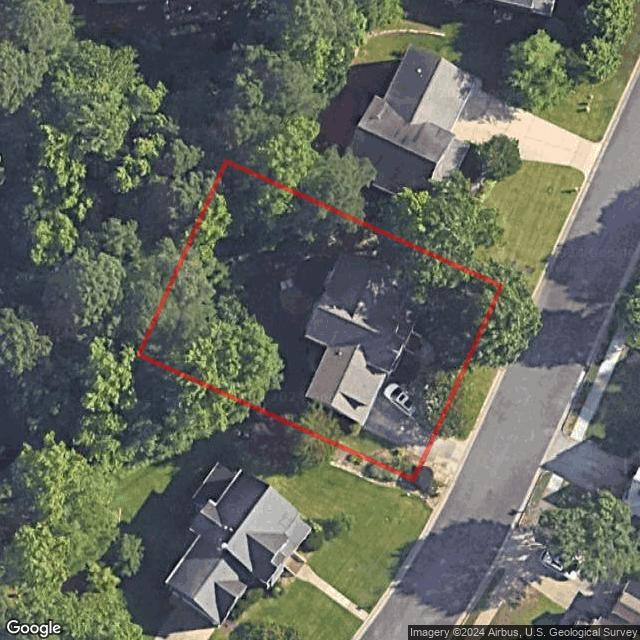Driveway: (364, 377, 447, 462)
Extra-Driveway: (423, 420, 469, 482)
Extra-Lawn: (441, 286, 528, 439)
Extra-Sidewalk: (436, 299, 537, 505)
House: (304, 251, 434, 425)
Lawn: (139, 161, 502, 481)
Other: (141, 163, 355, 400), (279, 253, 338, 316), (412, 460, 448, 499)
Sidewalk: (405, 331, 437, 397)
